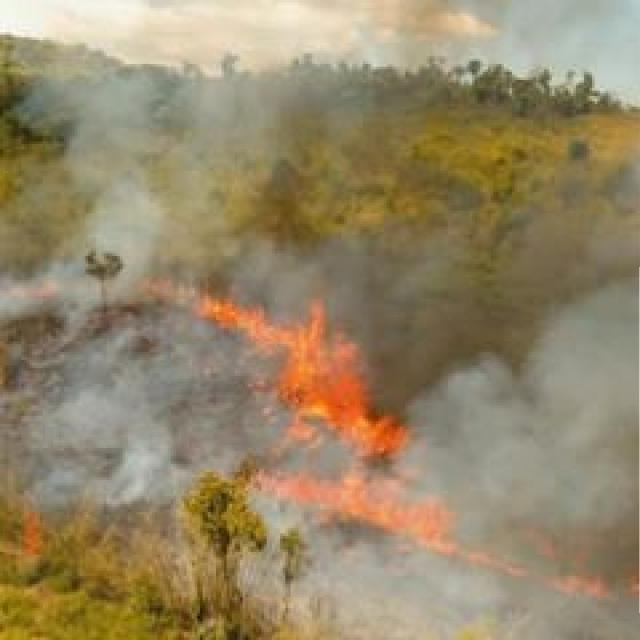Fire: (125, 267, 640, 613)
Smoke: (5, 0, 639, 621)
